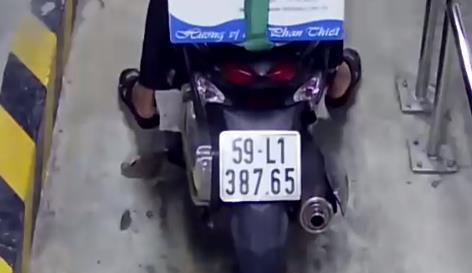lisence: (219, 130, 301, 200)
